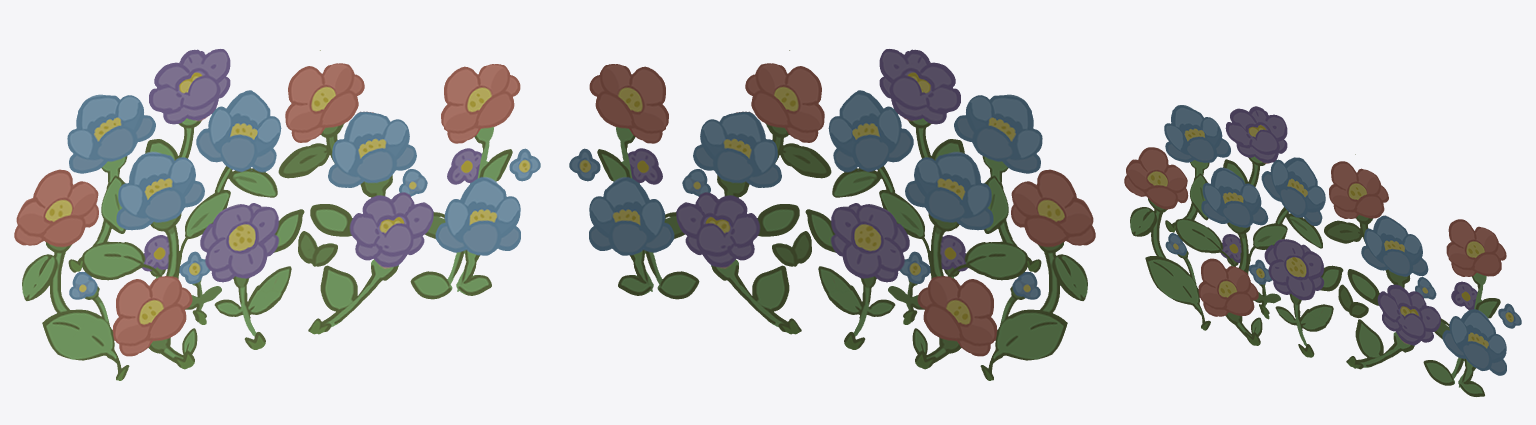
File: Mesh_Adventure_Forest_Variant_Flowers_01.fbx
The picture shows the model from 3 angles, left to right: view 1: azimuth 30°, elevation 25°; view 2: azimuth 150°, elevation 25°; view 3: azimuth 330°, elevation 25°; orthographic projection. The views are drawn at different scales.
Parts seen in each view (by area): view 1: Mesh_Adventure_Forest_Variant_Flowers_01; view 2: Mesh_Adventure_Forest_Variant_Flowers_01; view 3: Mesh_Adventure_Forest_Variant_Flowers_01.
Part boxes in pixels (x1=…): Mesh_Adventure_Forest_Variant_Flowers_01: x1=14, y1=49, x2=540, y2=380; Mesh_Adventure_Forest_Variant_Flowers_01: x1=569, y1=49, x2=1095, y2=380; Mesh_Adventure_Forest_Variant_Flowers_01: x1=1124, y1=105, x2=1521, y2=396.
Size of the model in its own units: 100 by 72.05 by 0.
